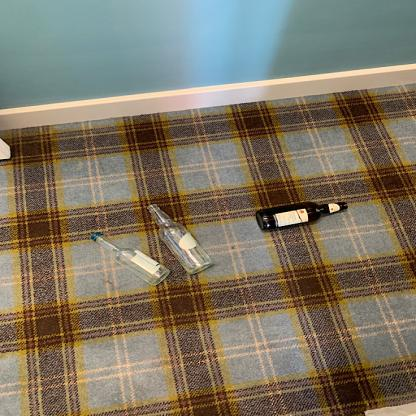trash: (144, 204, 212, 277), (89, 232, 173, 288), (254, 200, 348, 231)
